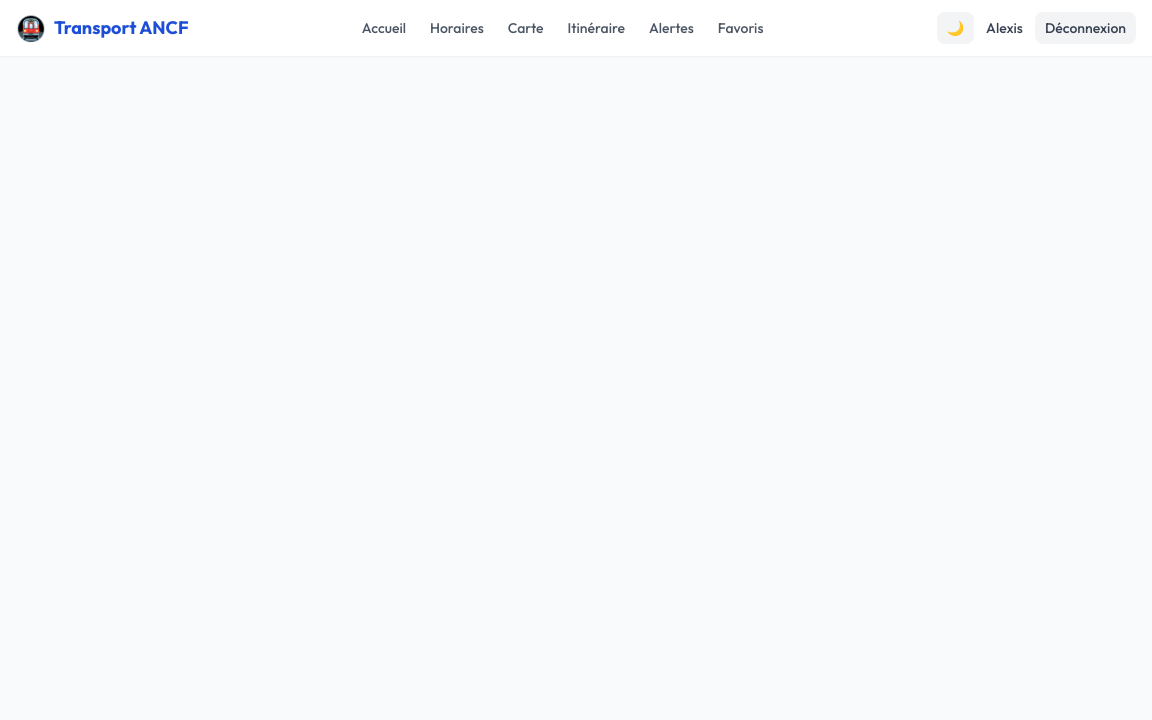
Test: confirmation avant déconnexion › referme sans déconnecter quand on annule
This screenshot has width=1152, height=720.
What coordinates should you click on to do the following:
click the button with aria-label "Se déconnecter"
I would click on:
 (1085, 28)
Its box is [1035,12,1136,44].
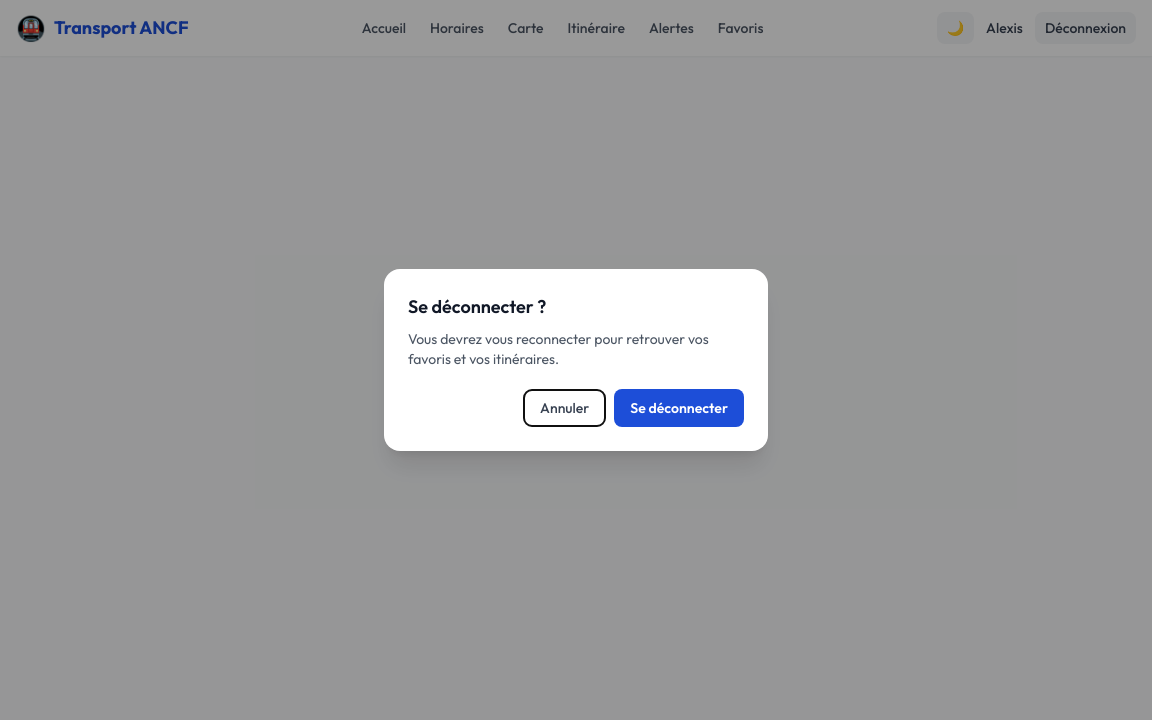
What coordinates should you click on to do the following:
click the button "Annuler"
I would click on:
 (565, 408)
Its box is [523,389,606,427].
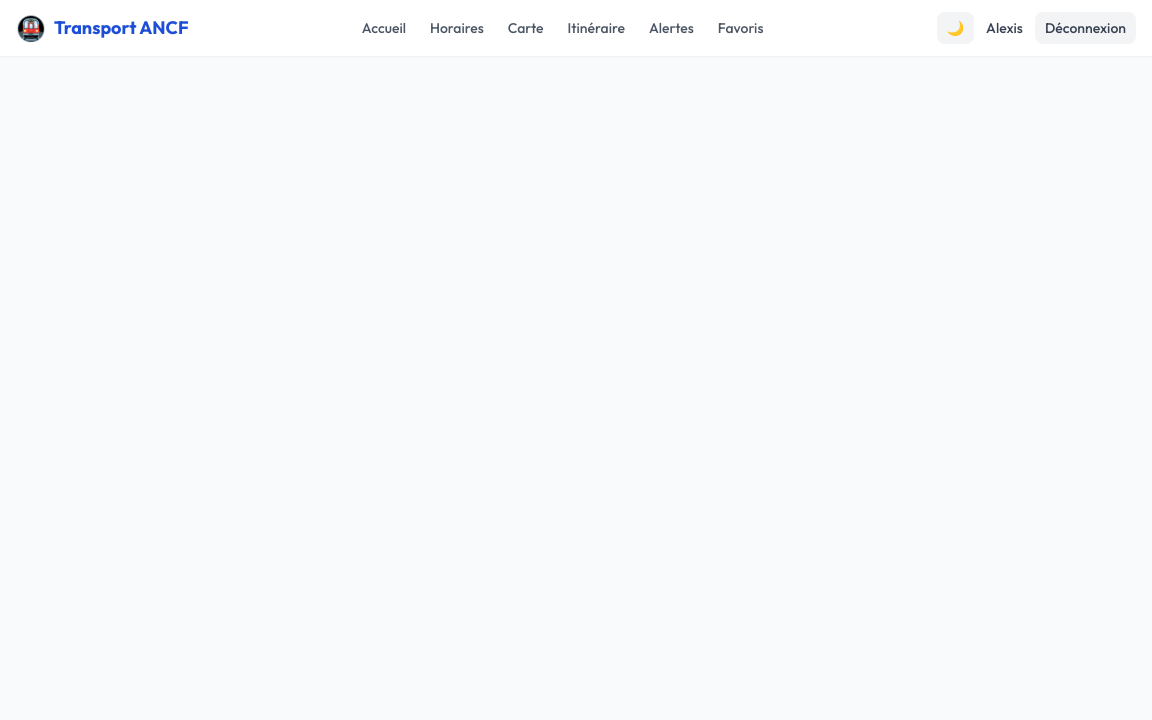
expect the dialog is gone: met
